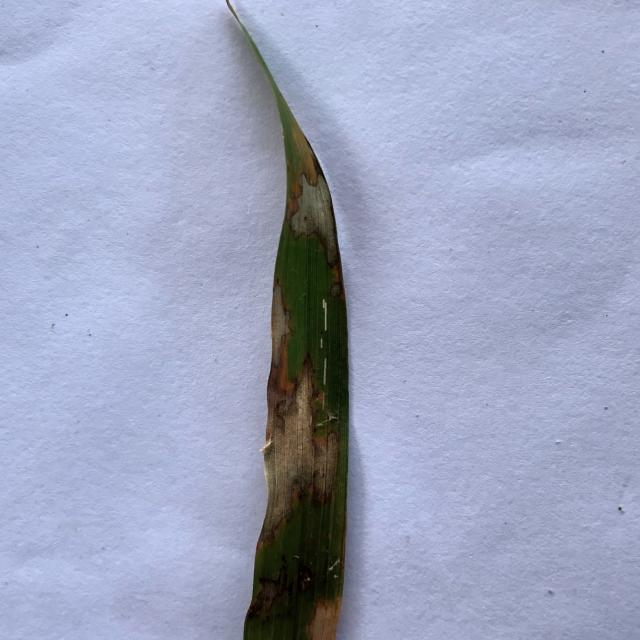leaf blight: (254, 288, 337, 554), (289, 118, 345, 283), (303, 593, 340, 640)
